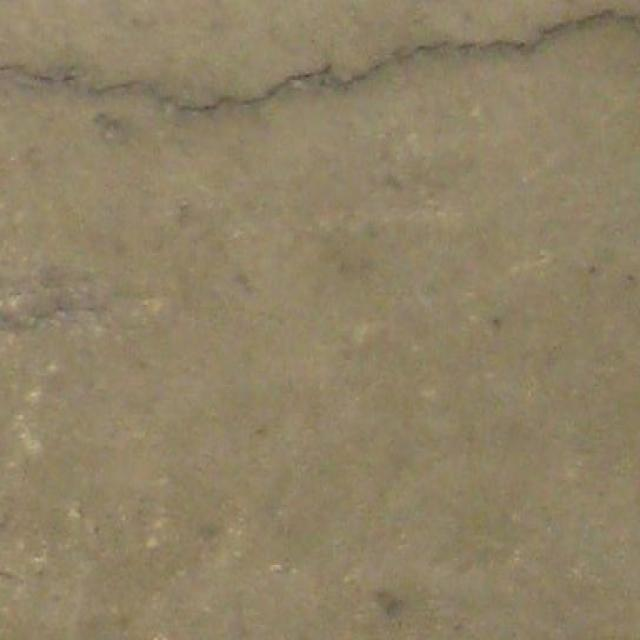Transverse: (13, 9, 640, 123), (0, 285, 179, 372)
